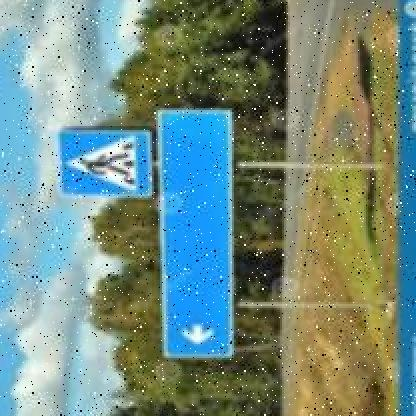Pedestrian Crossing: (50, 115, 158, 199)
